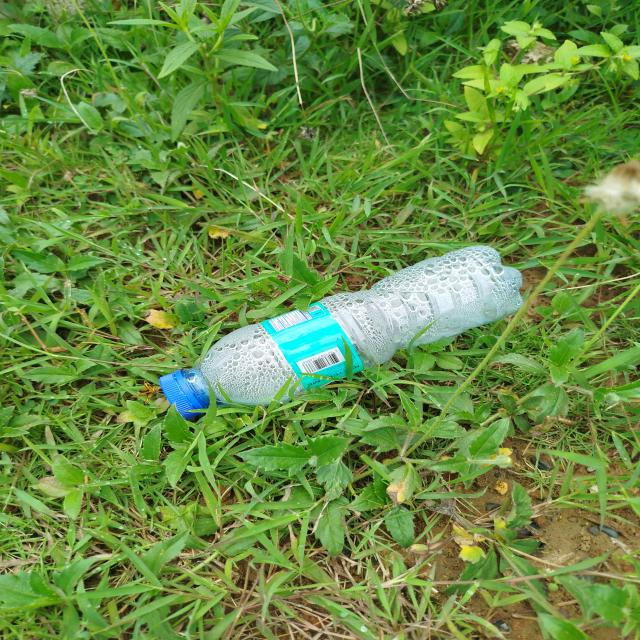plastic: (152, 236, 532, 420)
